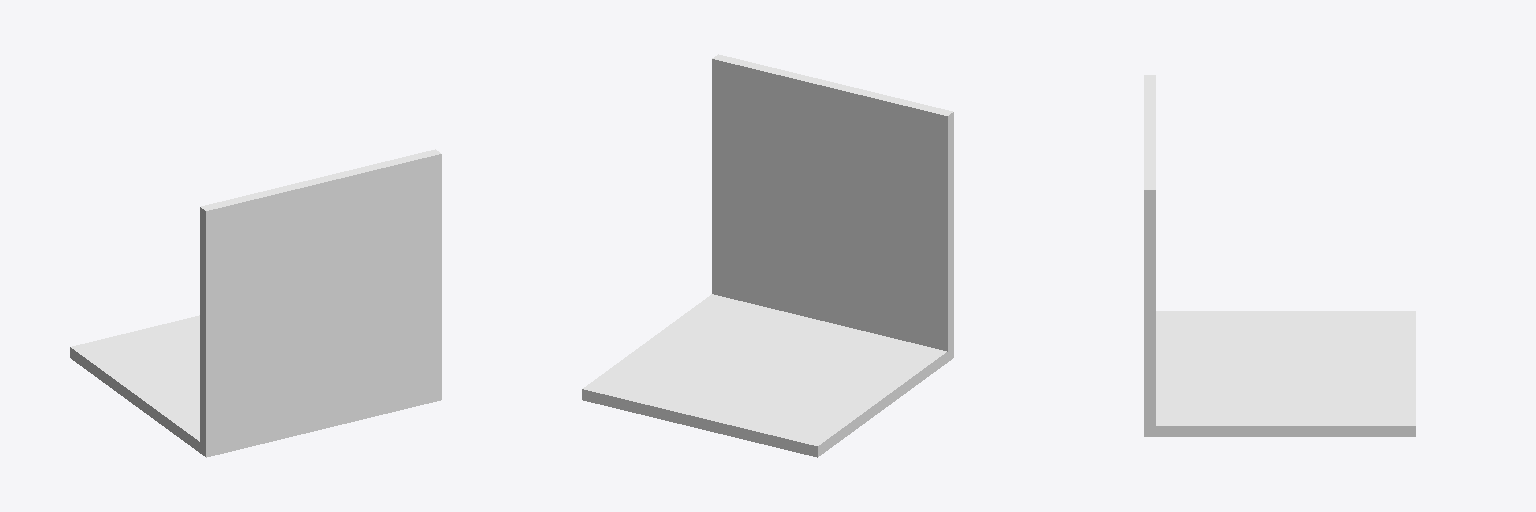
The model's file is mesh_hanger_wall_grid_straight.obj.
3 renders of one model, left to right at view 1: azimuth 30°, elevation 25°; view 2: azimuth 150°, elevation 25°; view 3: azimuth 270°, elevation 25°, orthographic.
Visible parts, largest first — view 1: object 1; view 2: object 1; view 3: object 1.
Boxes of the visible parts, <box> form: object 1: <box>70,149,441,457</box>; object 1: <box>582,54,953,457</box>; object 1: <box>1144,75,1415,436</box>.
Size of the model in its own units: 4.4 by 4.4 by 4.4.